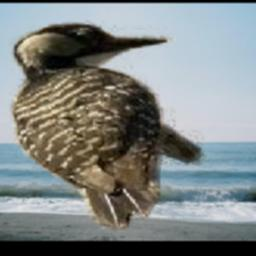Woodpecker: (9, 20, 208, 233)
